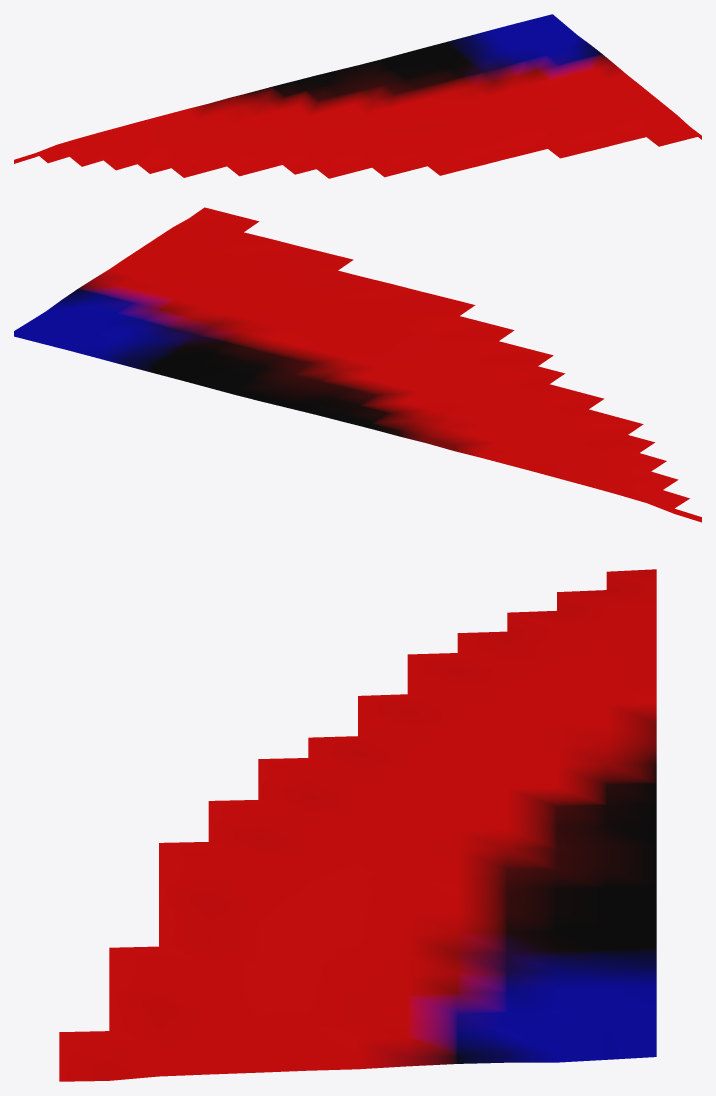
File: coast_16_9.glb
The picture shows the model from 3 angles, top to bottom: view 1: azimuth 30°, elevation 25°; view 2: azimuth 150°, elevation 25°; view 3: azimuth 270°, elevation 25°; orthographic projection. The views are drawn at different scales.
Parts seen in each view (by area): view 1: terrain; view 2: terrain; view 3: terrain.
Boxes of the visible parts, <box> form: terrain: <box>14,14,701,178</box>; terrain: <box>14,207,701,522</box>; terrain: <box>59,569,656,1081</box>.
Bounding box in the file's own units: 200 × 6.55 × 96.
